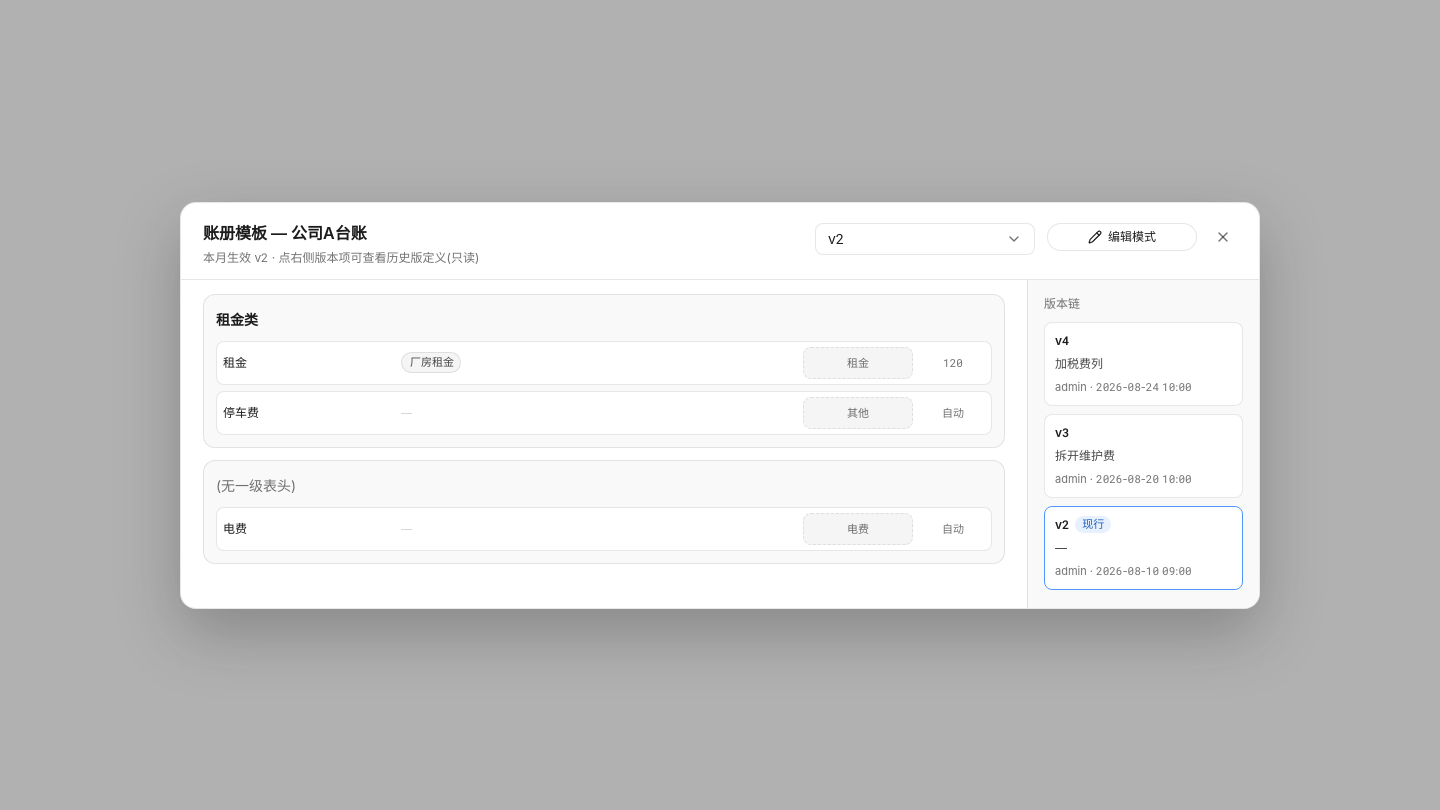
Test: TemplateEditorPanel · 版本选择器 › 版本选择器列出全链,最新那版带「最新」标记
This screenshot has width=1440, height=810.
Click the dropdown with class "ds-sel-trigger" at (925,238), box [815,222,1035,254]
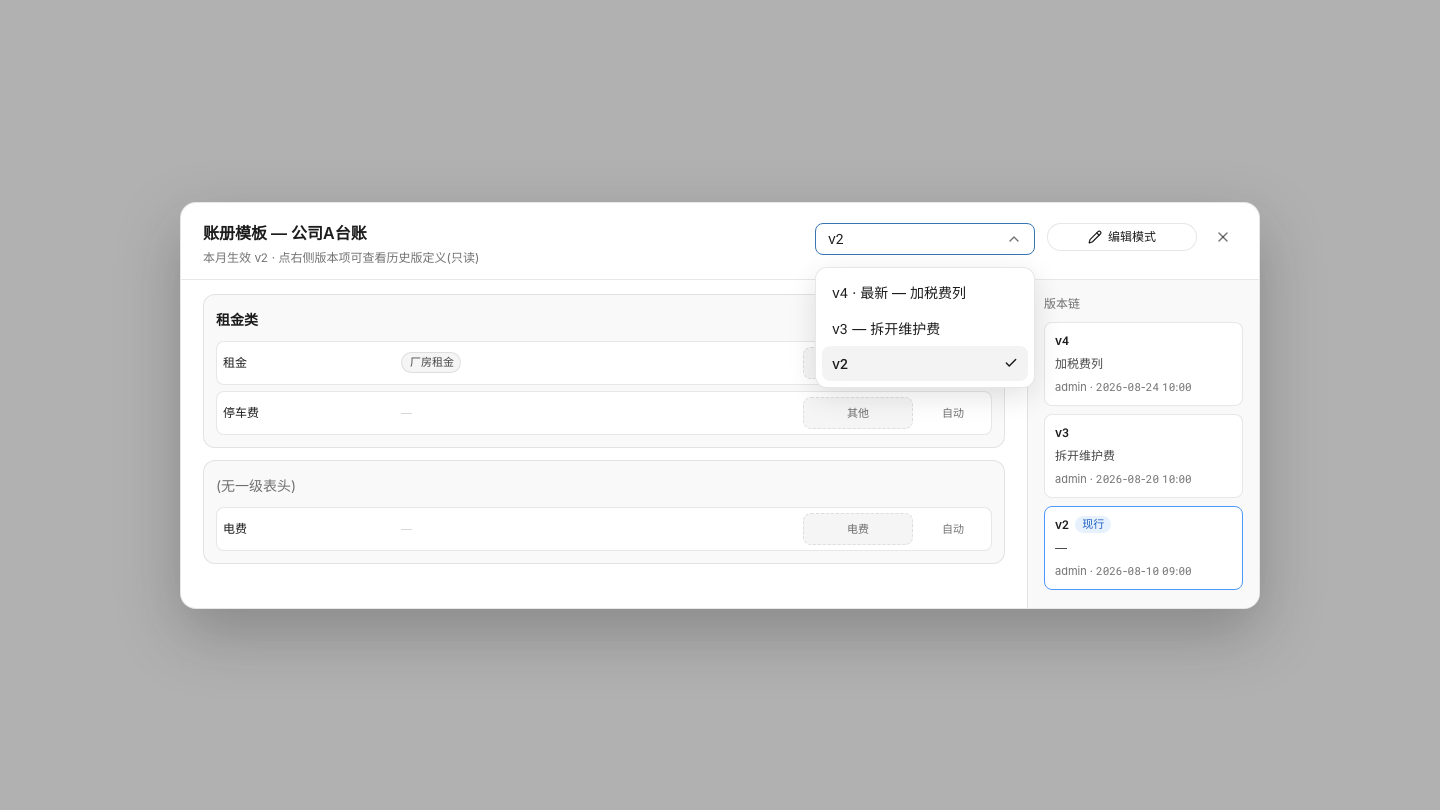
expect the number of options with class "ds-sel-opt" is 3: met, box [822,274,1028,310]; [822,310,1028,346]; [822,346,1028,380]
